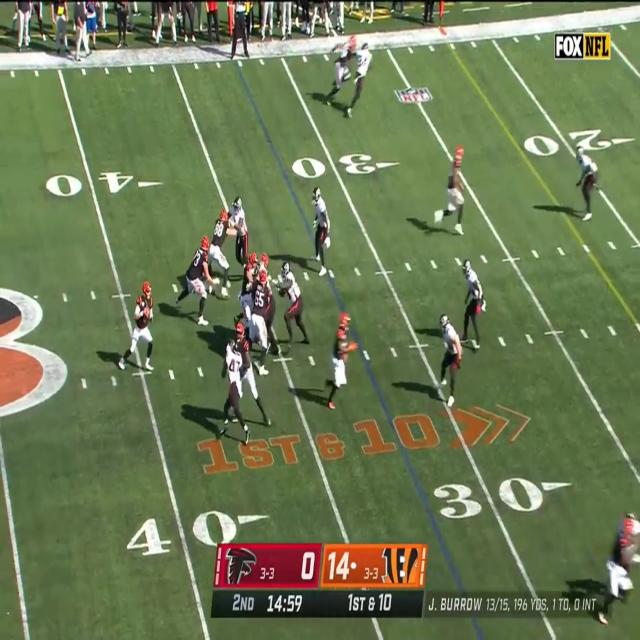Ball: (144, 305, 150, 321)
